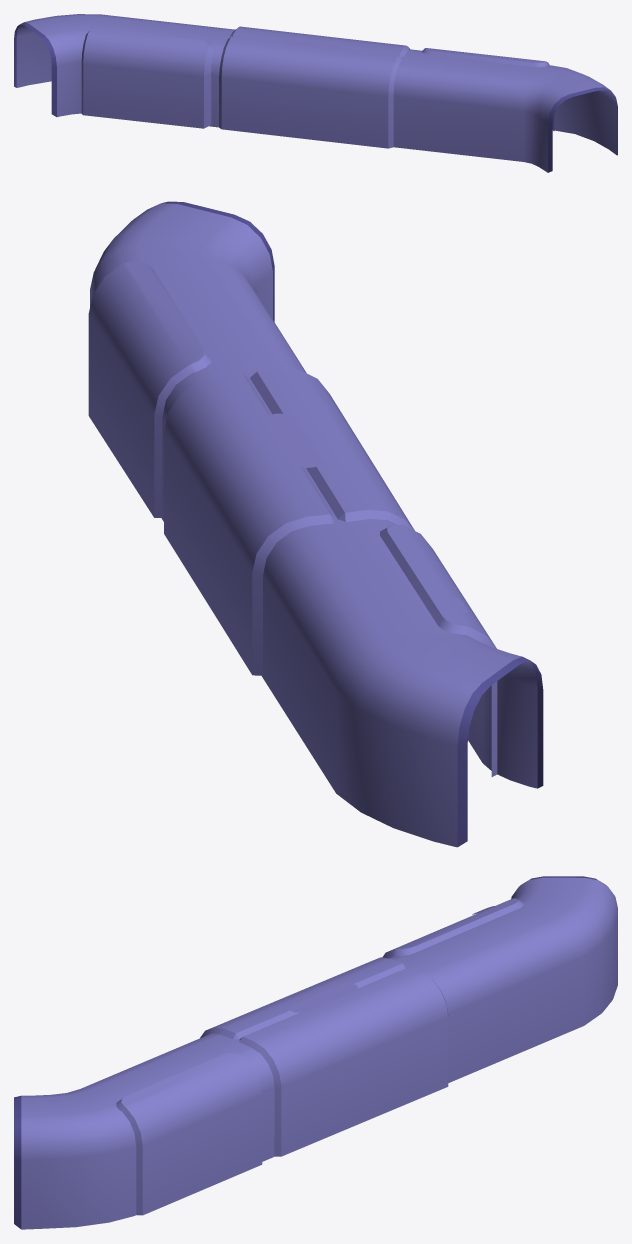
The model's file is wall_cornerMedium.glb.
The picture shows the model from 3 angles, top to bottom: view 1: azimuth 30°, elevation 25°; view 2: azimuth 150°, elevation 25°; view 3: azimuth 270°, elevation 25°; orthographic projection. The views are drawn at different scales.
Visible parts, largest first — view 1: Wall_cornerMedium; view 2: Wall_cornerMedium; view 3: Wall_cornerMedium.
Boxes of the visible parts, x1=… form: Wall_cornerMedium: x1=14, y1=14, x2=617, y2=172; Wall_cornerMedium: x1=88, y1=201, x2=543, y2=847; Wall_cornerMedium: x1=14, y1=876, x2=617, y2=1229.
Bounding box in the file's own units: 1.1 × 0.2132 × 1.1.
Materials: 1 (1 with a texture image).
